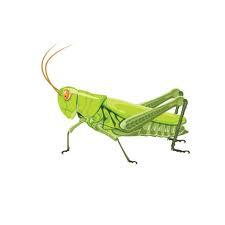Insects: (38, 38, 196, 169)
